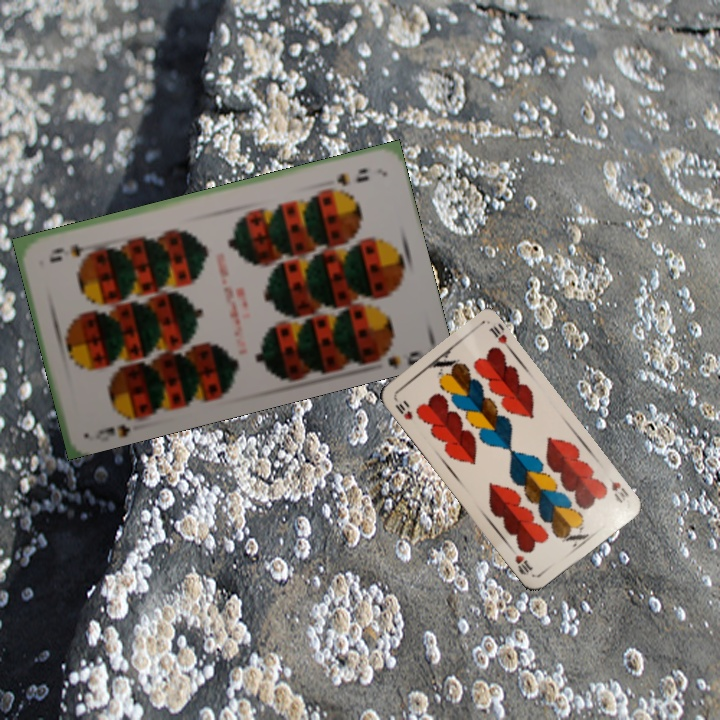H10: (604, 473, 631, 506), (391, 394, 415, 422)
S9: (91, 407, 145, 443), (333, 164, 371, 189)
